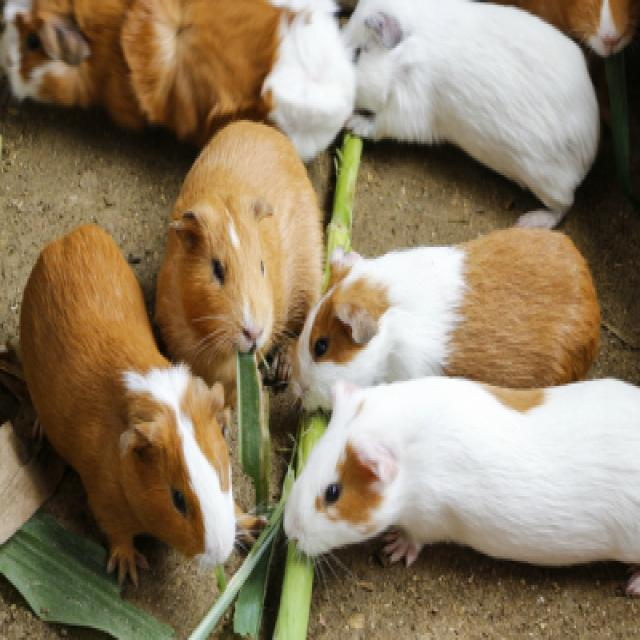guinea pig: (17, 213, 236, 591), (259, 392, 640, 602), (291, 224, 610, 400), (151, 117, 324, 377)
